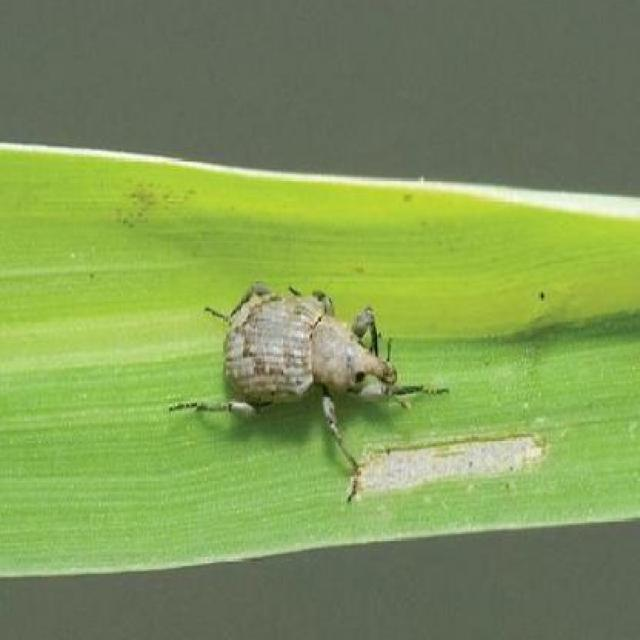rice-bug: (196, 276, 401, 475)
